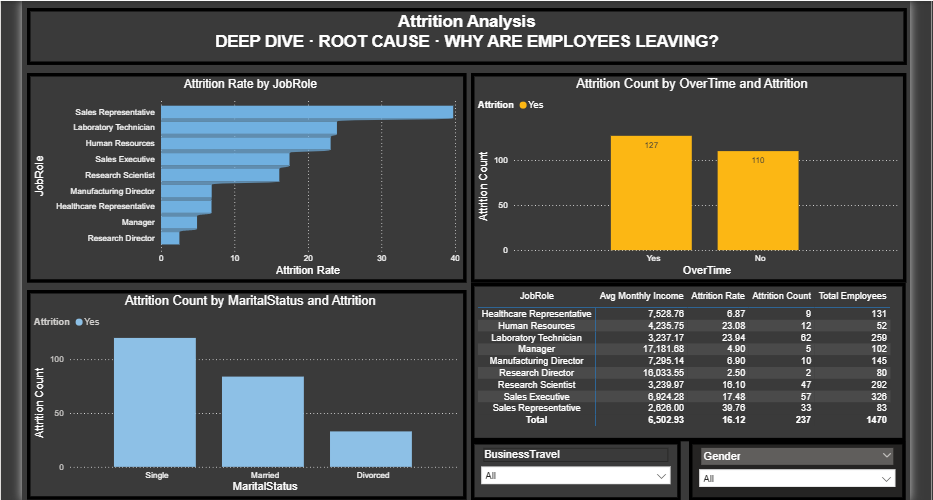

What the dashboard file says about the page in this screenshot:
{"tool":"powerbi","page":{"name":"Page 2","canvas":[1280,720],"ordinal":1},"visuals":[{"type":"textbox","box":[7,10,1266.6,82],"z":0},{"type":"barChart","fields":{"Category":["HR-Employee-Data.JobRole"],"Y":["HR-Employee-Data.Attrition Rate"]},"box":[6.7,104.1,633.3,302.4],"z":1},{"type":"clusteredColumnChart","fields":{"Category":["HR-Employee-Data.OverTime"],"Y":["HR-Employee-Data.Attrition Count"],"Series":["HR-Employee-Data.Attrition"]},"box":[646.7,104.1,626.6,302.4],"z":2},{"type":"columnChart","fields":{"Category":["HR-Employee-Data.MaritalStatus"],"Y":["HR-Employee-Data.Attrition Count"],"Series":["HR-Employee-Data.Attrition"]},"box":[7,416,633,302],"z":3},{"type":"pivotTable","fields":{"Rows":["HR-Employee-Data.JobRole"],"Values":["HR-Employee-Data.Avg Monthly Income","HR-Employee-Data.Attrition Rate","HR-Employee-Data.Attrition Count","HR-Employee-Data.Total Employees"]},"box":[646.6,406.1,626.4,227.5],"z":4},{"type":"slicer","fields":{"Values":["HR-Employee-Data.BusinessTravel"]},"box":[646.7,633.3,302.4,85.7],"z":5},{"type":"slicer","fields":{"Values":["HR-Employee-Data.Gender"]},"box":[960.8,633.3,312.4,85.7],"z":6}]}

Visuals, with their boxes on the page's 1280x720 design canvas (x1, y1, x2, y2). These are canvas units, not pixel positions in the 933x500 screenshot, which may show the page scaled, cropped or inside an application window:
textbox: pyautogui.locateOnScreen(7, 10, 1274, 92)
barChart - HR-Employee-Data.JobRole x HR-Employee-Data.Attrition Rate: pyautogui.locateOnScreen(7, 104, 640, 406)
clusteredColumnChart - HR-Employee-Data.OverTime x HR-Employee-Data.Attrition Count: pyautogui.locateOnScreen(647, 104, 1273, 406)
columnChart - HR-Employee-Data.MaritalStatus x HR-Employee-Data.Attrition Count: pyautogui.locateOnScreen(7, 416, 640, 718)
pivotTable - HR-Employee-Data.JobRole x HR-Employee-Data.Avg Monthly Income: pyautogui.locateOnScreen(647, 406, 1273, 634)
slicer - HR-Employee-Data.BusinessTravel: pyautogui.locateOnScreen(647, 633, 949, 719)
slicer - HR-Employee-Data.Gender: pyautogui.locateOnScreen(961, 633, 1273, 719)
